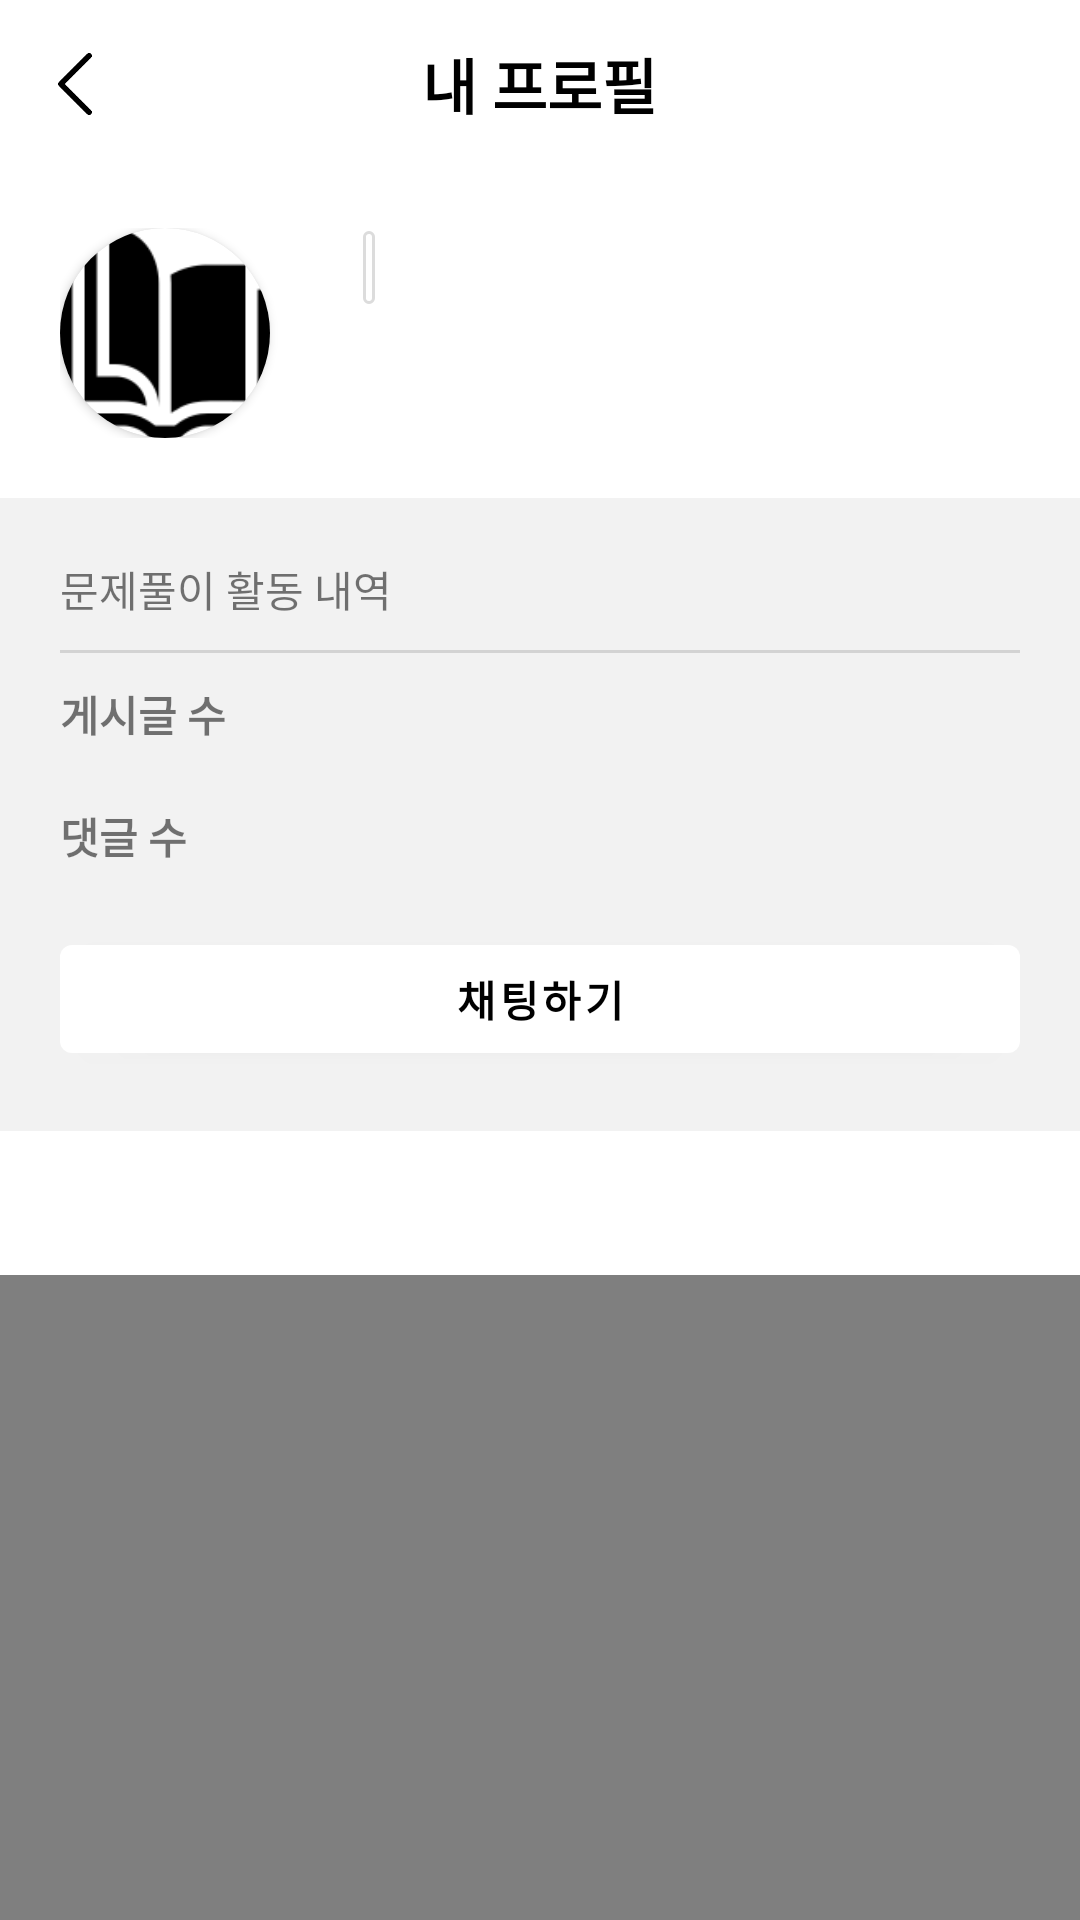

Screen size 1080 x 1920. Icon name, then its box in pixels as (x1=x1, y1=y1, x2=x2, y2=y2):
back: (x1=58, y1=53, x2=92, y2=115)
book push: (x1=60, y1=233, x2=270, y2=438)
